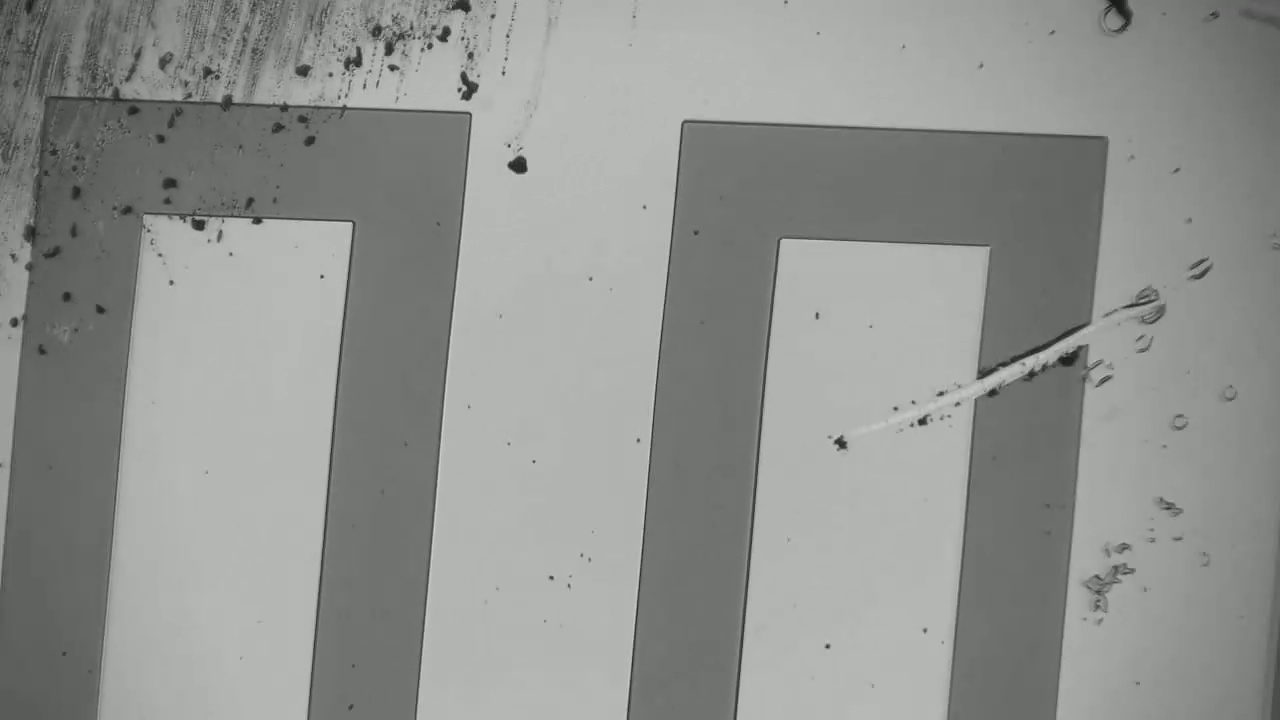Short_circuit: (936, 295, 1120, 436)
